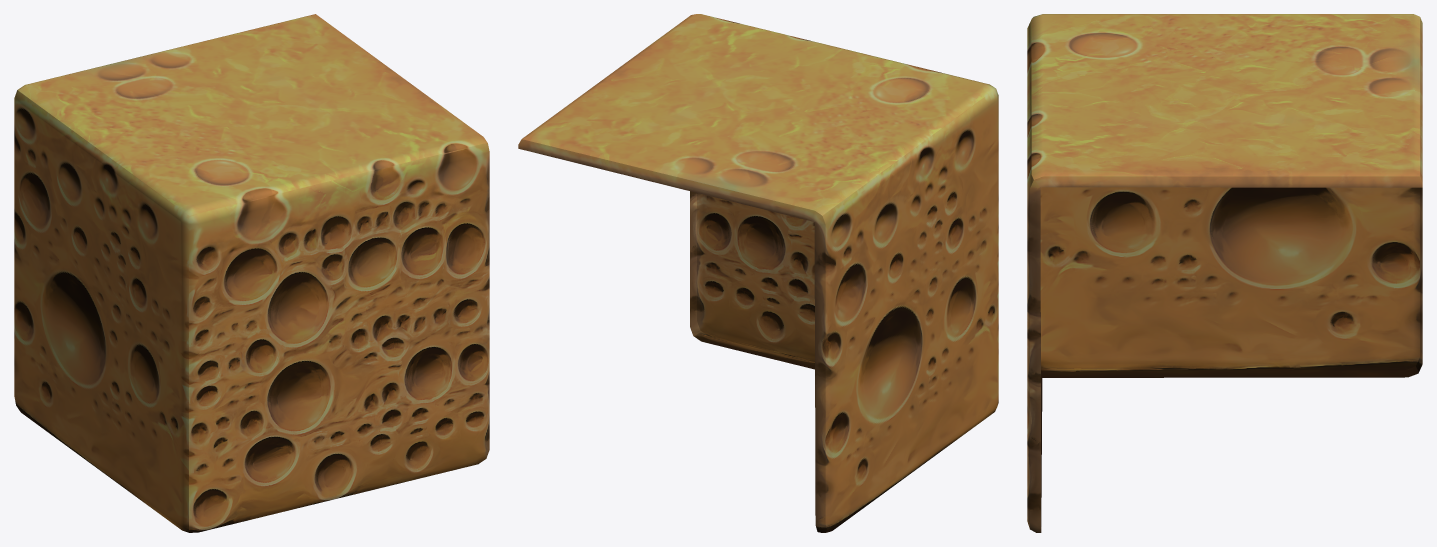
Rendered from Moon_v1.fbx.
3 renders of one model, left to right at view 1: azimuth 30°, elevation 25°; view 2: azimuth 150°, elevation 25°; view 3: azimuth 270°, elevation 25°, orthographic. The views are drawn at different scales.
Visible parts, largest first — view 1: Moon_v1; view 2: Moon_v1; view 3: Moon_v1.
Boxes of the visible parts, x1,y1,x2,y2 form: Moon_v1: [14, 14, 489, 532]; Moon_v1: [518, 14, 998, 532]; Moon_v1: [1027, 14, 1422, 532].
Size of the model in its own units: 100 by 101 by 100.
